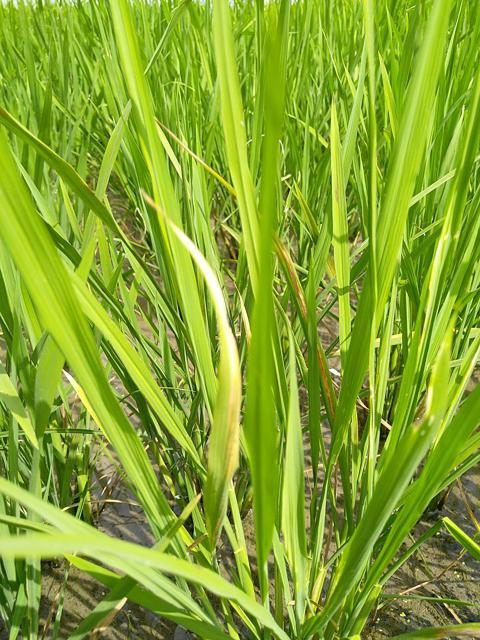Leaf Blight: (141, 191, 242, 548), (155, 117, 237, 196), (275, 243, 309, 333), (318, 339, 335, 419)
